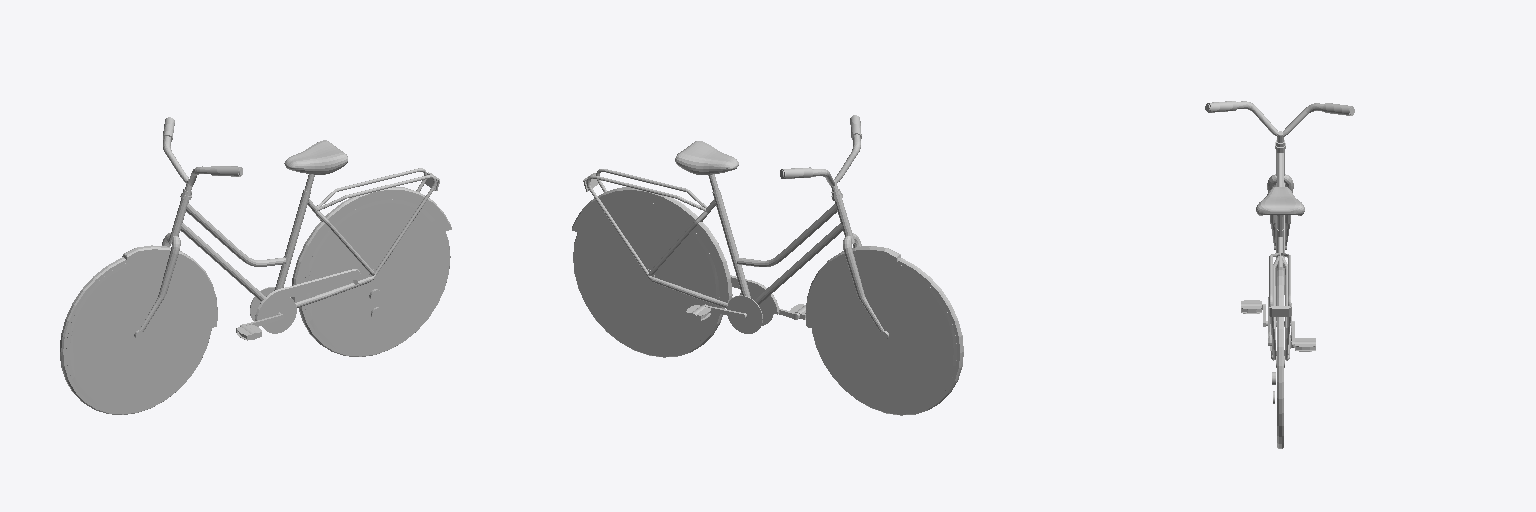
Rendered from Simple Bike.obj.
The picture shows the model from 3 angles: view 1: azimuth 30°, elevation 25°; view 2: azimuth 150°, elevation 25°; view 3: azimuth 270°, elevation 25°; orthographic projection.
Parts seen in each view (by area): view 1: Cylinder.011_Cylinder.015, Cylinder, Cylinder.009_Cylinder.012, Cylinder.010_Cylinder.013, Cylinder.016_Cylinder.020, Cylinder.001_Cylinder.003, Cube.010_Cube.025, Cube_Cube.012, Cylinder.017_Cylinder.023, Cylinder.012_Cylinder.016, Cylinder.007_Cylinder.010, Cylinder.005_Cylinder.008 (+4 smaller); view 2: Cylinder.011_Cylinder.015, Cylinder, Cylinder.009_Cylinder.012, Cylinder.010_Cylinder.013, Cylinder.016_Cylinder.020, Cylinder.001_Cylinder.003, Cube.010_Cube.025, Cylinder.017_Cylinder.023, Cylinder.007_Cylinder.010, Cylinder.012_Cylinder.016, Cylinder.005_Cylinder.008, Cylinder.006_Cylinder.009 (+3 smaller); view 3: Cube.010_Cube.025, Cylinder.016_Cylinder.020, Cylinder.025_Cylinder.037, Cylinder.010_Cylinder.013, Cylinder.024_Cylinder.038, Cylinder.012_Cylinder.016.
Boxes of the visible parts, box(x1,y1,x2,y2) form: Cylinder.011_Cylinder.015: box(304, 199, 446, 353); Cylinder: box(66, 263, 208, 410); Cylinder.009_Cylinder.012: box(122, 245, 217, 327); Cylinder.010_Cylinder.013: box(291, 187, 451, 302); Cylinder.016_Cylinder.020: box(290, 168, 436, 307); Cylinder.001_Cylinder.003: box(60, 257, 211, 414); Cube.010_Cube.025: box(284, 140, 347, 174); Cube_Cube.012: box(255, 269, 360, 320); Cylinder.017_Cylinder.023: box(250, 287, 296, 333); Cylinder.012_Cylinder.016: box(299, 230, 450, 356); Cylinder.007_Cylinder.010: box(274, 174, 314, 290); Cylinder.005_Cylinder.008: box(186, 203, 285, 266); Cylinder.011_Cylinder.015: box(576, 200, 719, 353); Cylinder: box(815, 263, 956, 411); Cylinder.009_Cylinder.012: box(805, 246, 900, 327); Cylinder.010_Cylinder.013: box(572, 187, 732, 302); Cylinder.016_Cylinder.020: box(587, 169, 733, 308); Cylinder.001_Cylinder.003: box(812, 258, 963, 415); Cube.010_Cube.025: box(675, 141, 738, 174); Cylinder.017_Cylinder.023: box(727, 289, 773, 333); Cylinder.007_Cylinder.010: box(708, 174, 750, 297); Cylinder.012_Cylinder.016: box(573, 233, 724, 357); Cylinder.005_Cylinder.008: box(737, 204, 836, 266); Cylinder.006_Cylinder.009: box(754, 223, 842, 304); Cube.010_Cube.025: box(1256, 187, 1304, 215); Cylinder.016_Cylinder.020: box(1269, 253, 1290, 360); Cylinder.025_Cylinder.037: box(1237, 101, 1323, 136); Cylinder.010_Cylinder.013: box(1277, 267, 1283, 370); Cylinder.024_Cylinder.038: box(1205, 101, 1354, 115); Cylinder.012_Cylinder.016: box(1277, 371, 1283, 448).
Bounding box in the file's own units: 10.07 × 6.29 × 3.34.